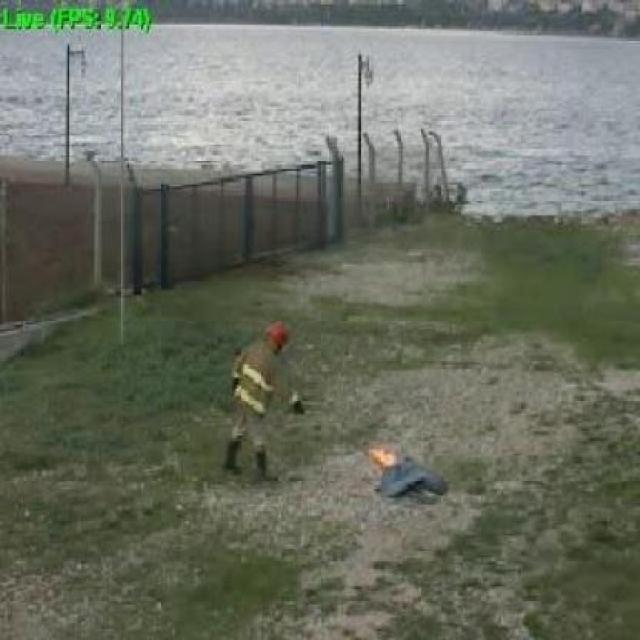Fire: (320, 393, 434, 495)
